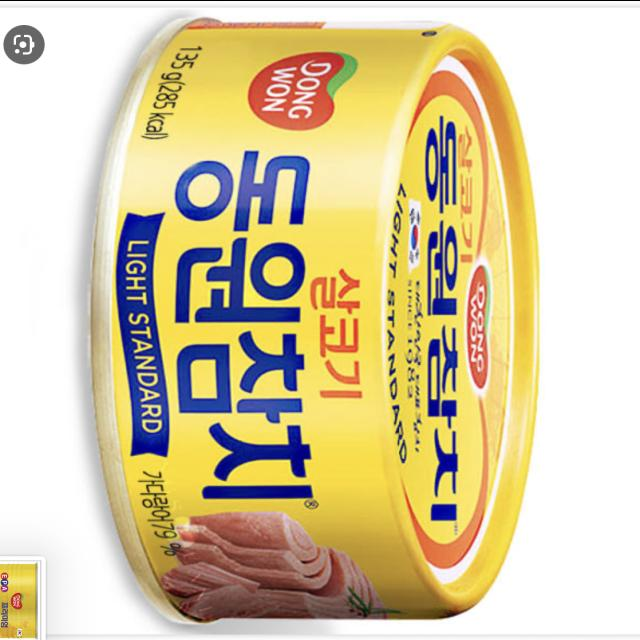can: (83, 18, 550, 640)
